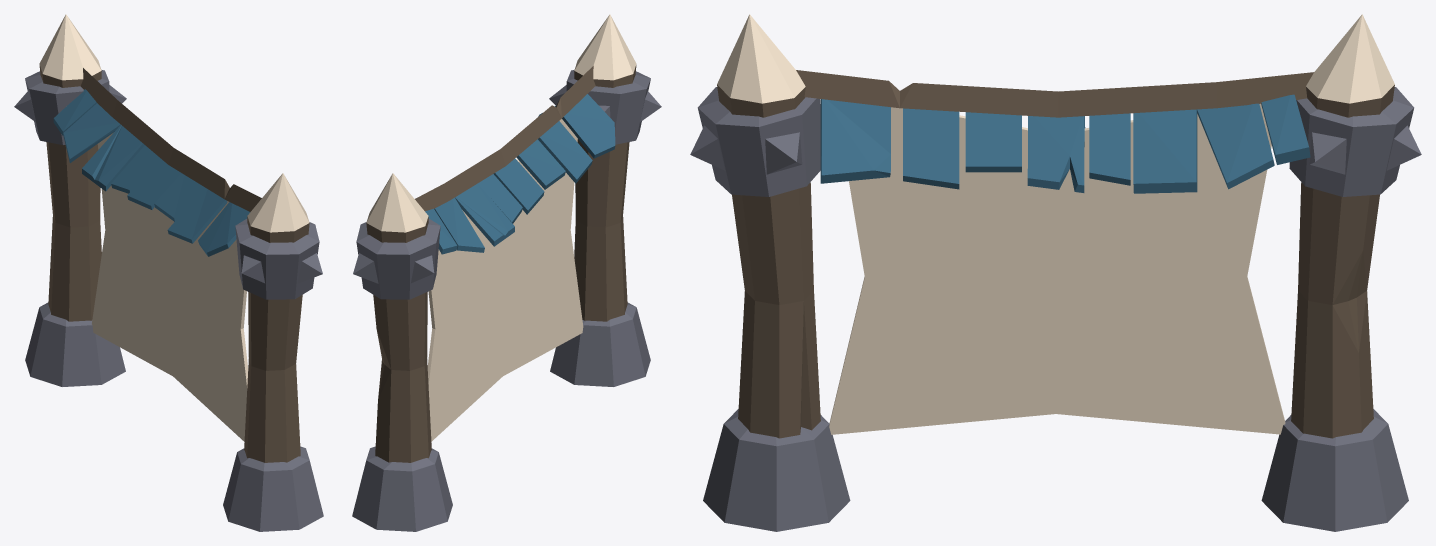
Rendered from bulletin_board.glb.
3 views of the same model, side by side, from view 1: azimuth 30°, elevation 25°; view 2: azimuth 150°, elevation 25°; view 3: azimuth 270°, elevation 25° (orthographic). The views are drawn at different scales.
Parts seen in each view (by area): view 1: Bulletin_board; view 2: Bulletin_board; view 3: Bulletin_board.
Part boxes in pixels (x1=…): Bulletin_board: x1=14, y1=14, x2=323, y2=531; Bulletin_board: x1=352, y1=14, x2=661, y2=531; Bulletin_board: x1=690, y1=14, x2=1421, y2=531.
Size of the model in its own units: 0.3686 by 1.32 by 1.8.
1 material, 1 textured.
